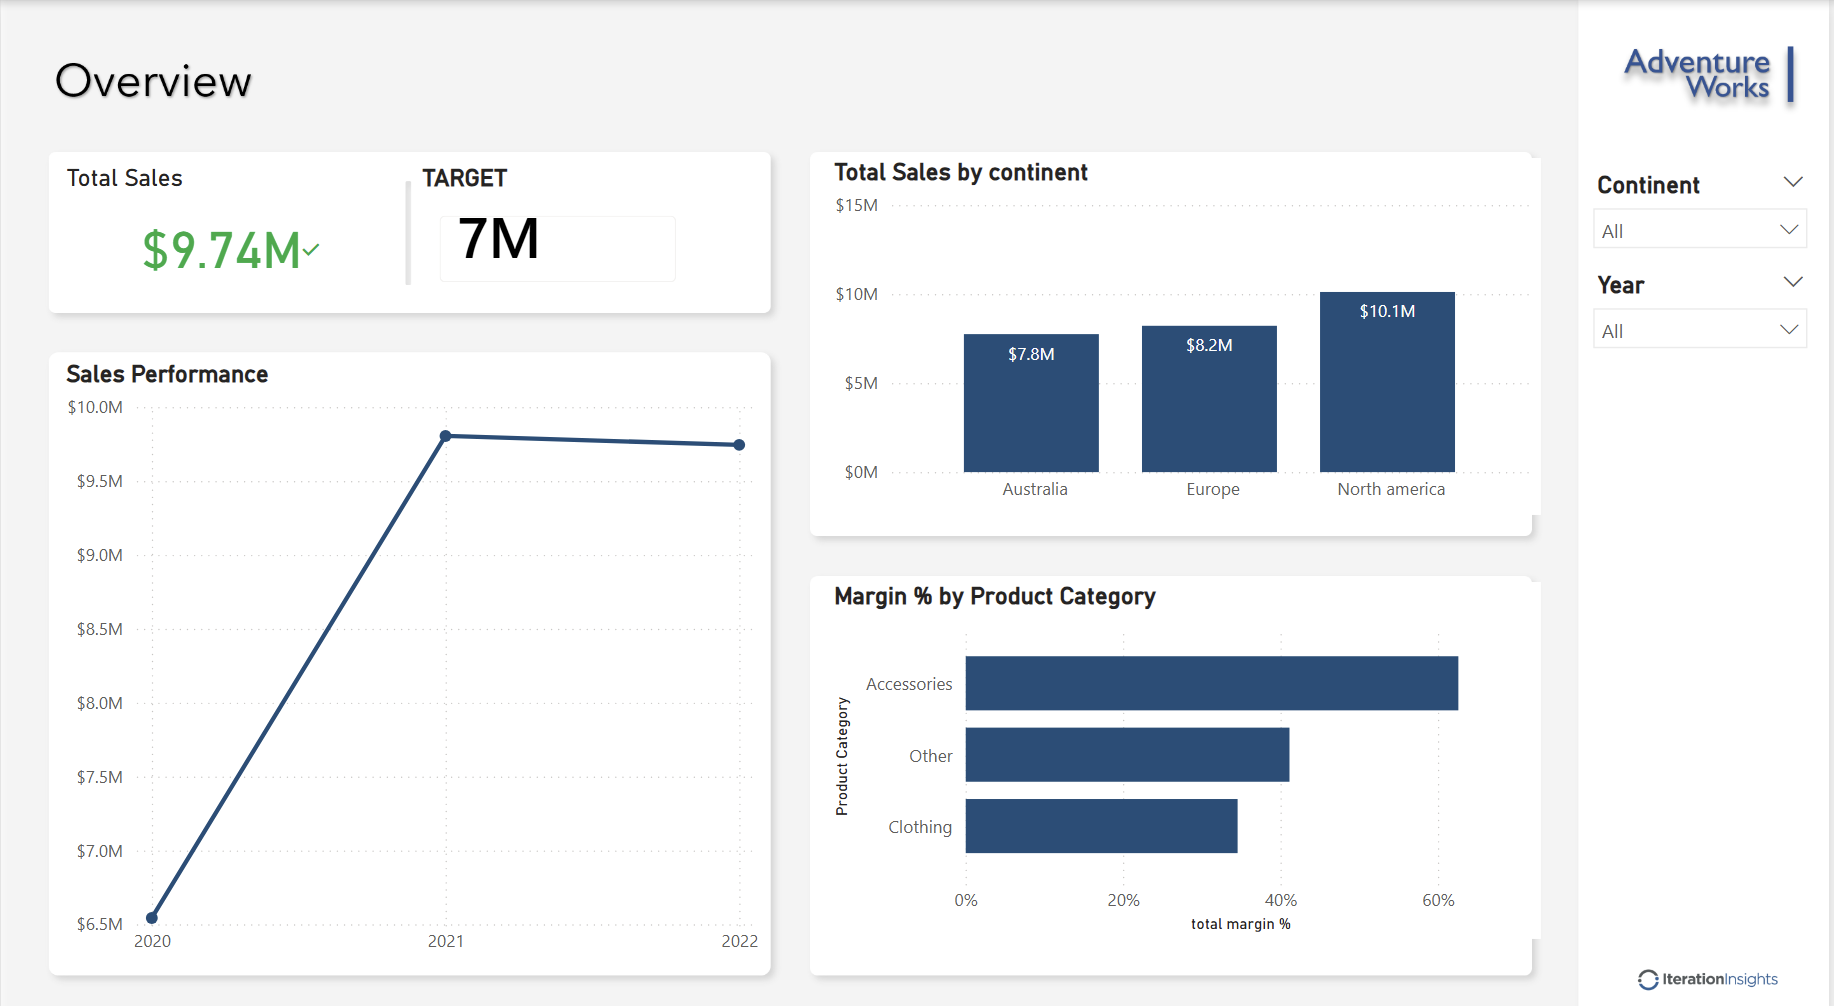

The page's visual inventory and layout, read from the dashboard file:
{"tool":"powerbi","page":{"name":"Overview","canvas":[1280,720],"ordinal":0},"visuals":[{"type":"clusteredColumnChart","title":"Total Sales by continent","fields":{"Category":["sales territory.Sales territory continent"],"Y":["Sales.Total Sales"]},"box":[578.6,110,500,250],"z":0},{"type":"clusteredBarChart","title":"Margin % by Product Category","fields":{"Y":["Sales.total margin %"],"Category":["Product.Product Hierarchy.Product Category","Product.Product Hierarchy.Product Subcategory"]},"box":[578.6,407.1,500,250],"z":1000},{"type":"lineChart","title":"Sales Performance","fields":{"Y":["Sales.Total Sales"],"Category":["order date.order date Hierarchy.order date year","order date.order date Hierarchy.order date Month","order date.order date Hierarchy.Order Date"]},"box":[40.4,252.3,494.4,425.2],"z":2000},{"type":"kpi","title":"Total Sales","fields":{"Indicator":["Sales.Total Sales"],"TrendLine":["order date.order date year"],"Goal":["Sales.Target"]},"box":[40,115,240,100],"z":3000},{"type":"cardVisual","title":"TARGET","fields":{"Data":["Sales.Target"]},"box":[290,115,200,100],"z":4000},{"type":"slicer","title":"slicer Continent","fields":{"Values":["sales territory.Sales territory continent"]},"box":[1105,115,170,70],"z":5000},{"type":"slicer","title":"Slicer Year","fields":{"Values":["order date.order date year"]},"box":[1105.7,185,170,70],"z":6000}]}

Visuals, with their boxes in screenshot pixels (x1, y1, x2, y2), scaled from the page's 1280x720 canvas onto the 1834x1006 screenshot:
"Total Sales by continent" clusteredColumnChart: 829,154,1545,503
"Margin % by Product Category" clusteredBarChart: 829,569,1545,918
"Sales Performance" lineChart: 58,353,766,947
"Total Sales" kpi: 57,161,401,300
"TARGET" cardVisual: 416,161,702,300
"slicer Continent" slicer: 1583,161,1827,258
"Slicer Year" slicer: 1584,258,1828,356
